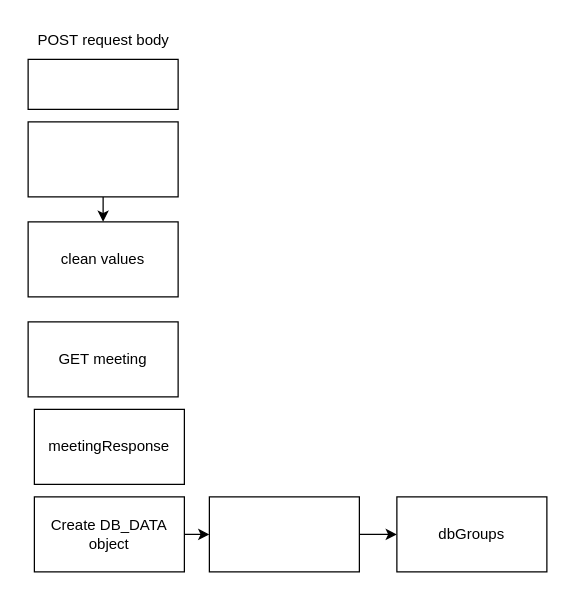
Some shapes in this 569 by 594 pixel diagram are drawn without their labels. The shapes that lost their labels are listed below. From the top down, each one's box as (x1, y1, x2, y2) in pixels, then its label:
(27, 58, 178, 109): body
(27, 121, 178, 197): Create POST_DATA object
(208, 496, 359, 572): dbMeeting
